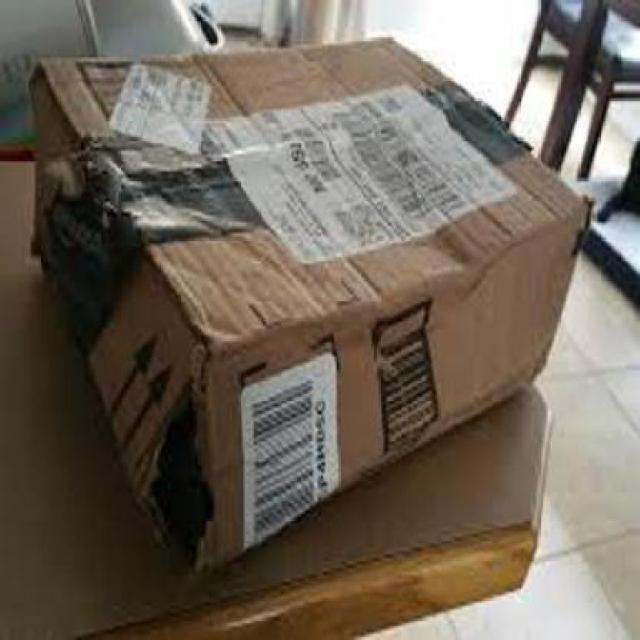defect: (15, 22, 592, 564)
